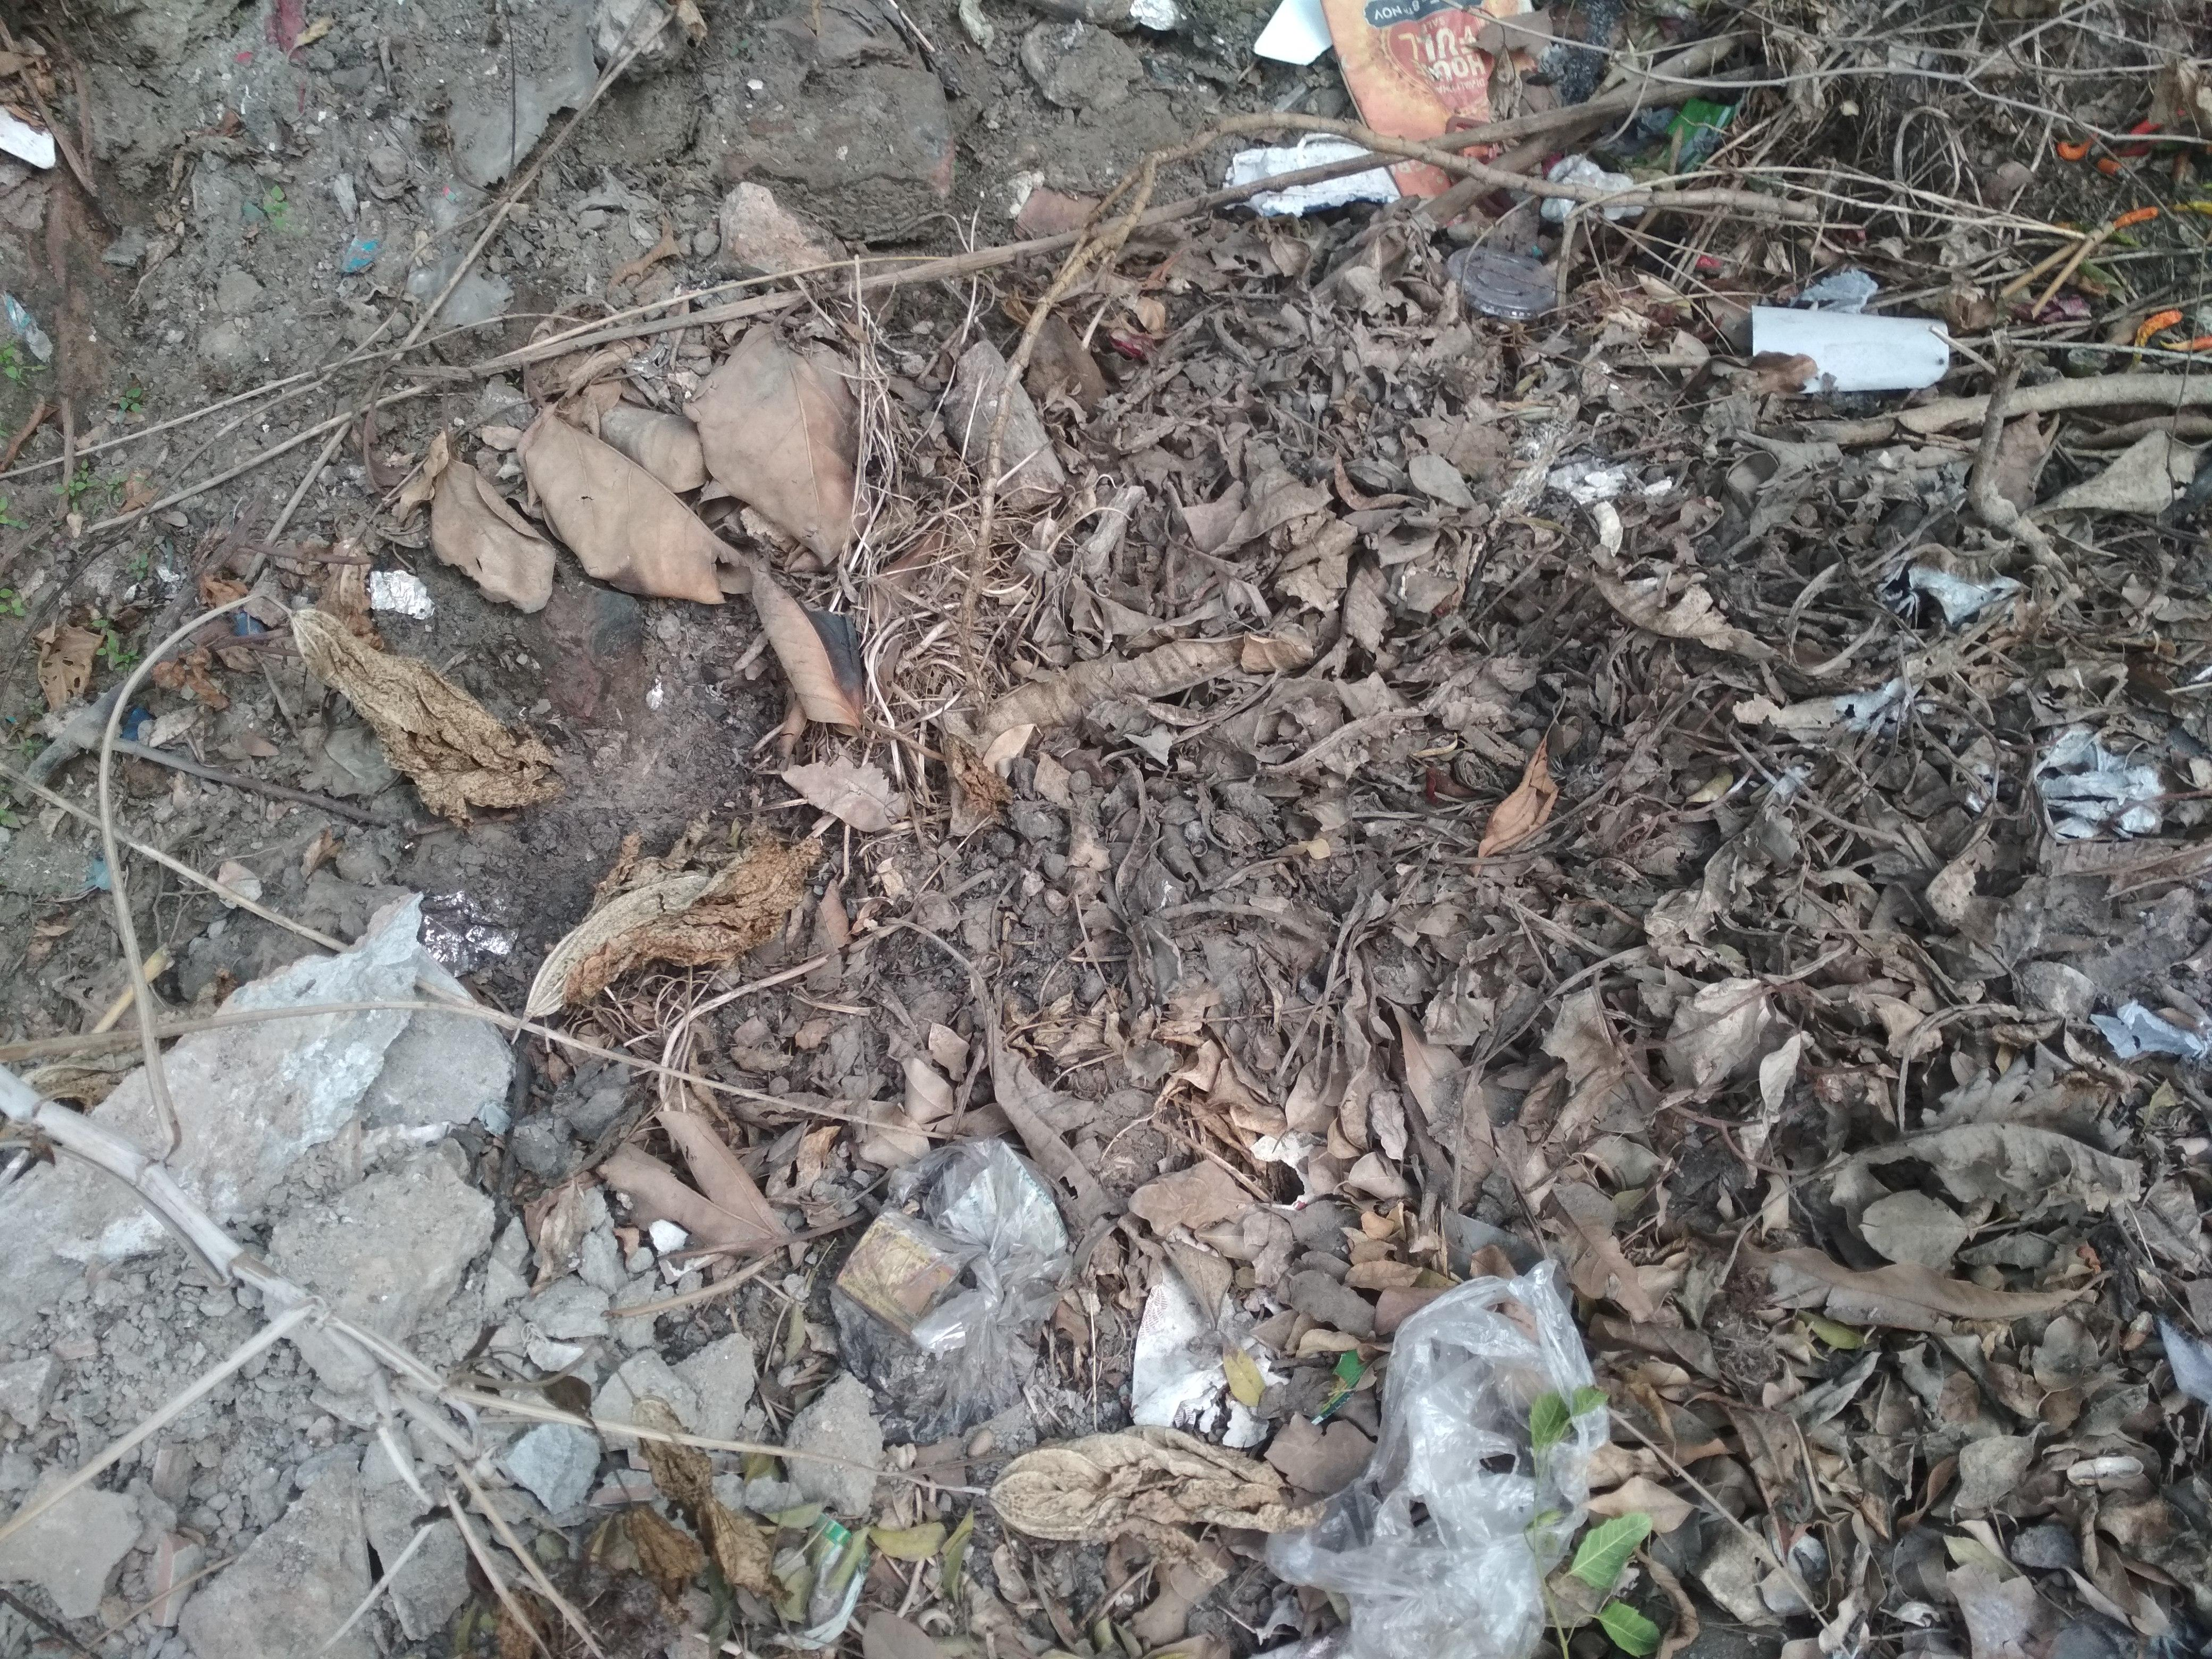trash: (1089, 0, 1979, 418), (1252, 1248, 1656, 1659)
